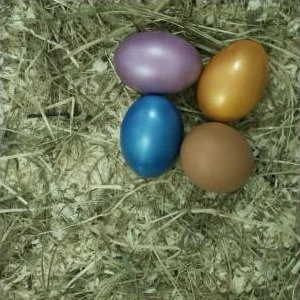egg: (197, 40, 268, 121), (115, 31, 203, 93), (179, 122, 255, 193), (120, 95, 182, 177)
